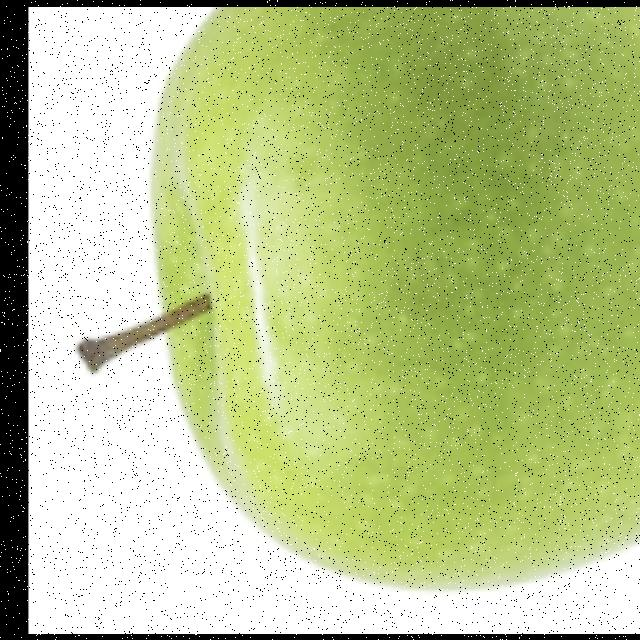Apel Segar: (128, 7, 640, 630)
